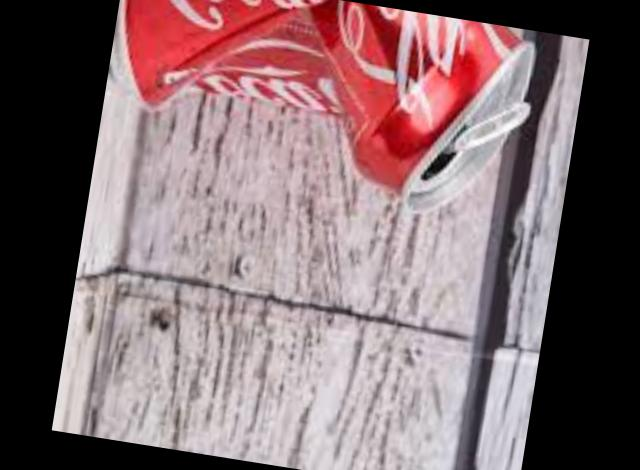metal: (112, 0, 536, 215)
